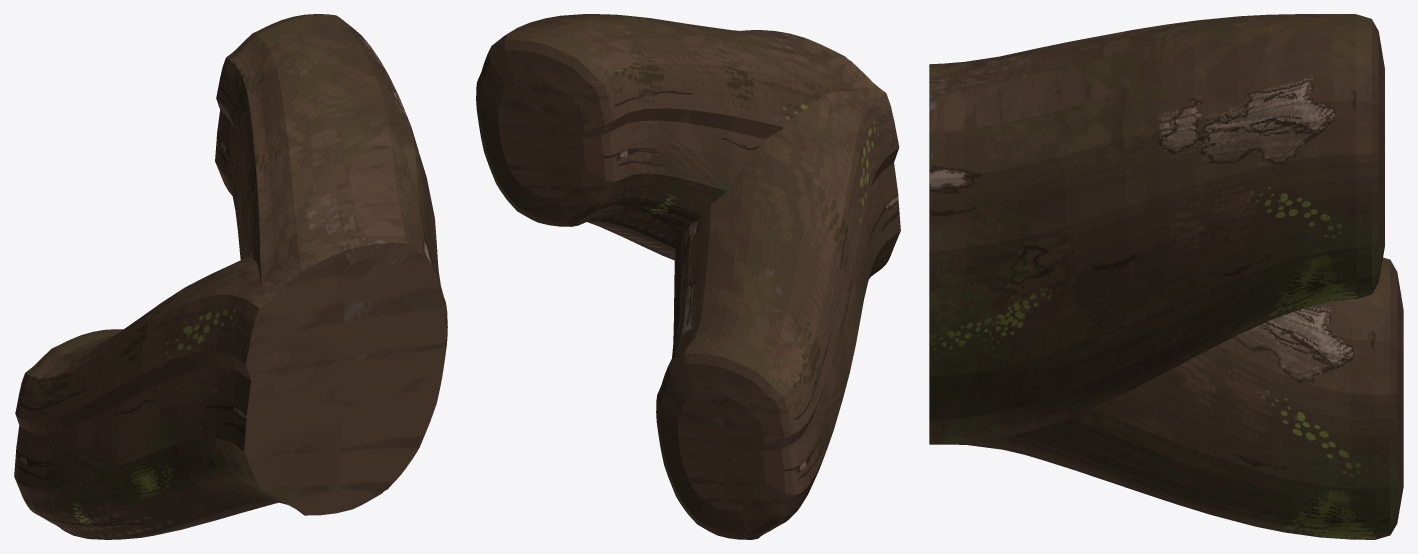
File: G2Splitter.fbx
The picture shows the model from 3 angles, left to right: view 1: azimuth 30°, elevation 25°; view 2: azimuth 150°, elevation 25°; view 3: azimuth 270°, elevation 25°; orthographic projection. The views are drawn at different scales.
Parts seen in each view (by area): view 1: 1-1.004, 1-1.005; view 2: 1-1.005, 1-1.004; view 3: 1-1.004, 1-1.005.
Part boxes in pixels (x1,y1,x2,y2): 1-1.004: (215, 14, 447, 511); 1-1.005: (14, 256, 382, 539); 1-1.005: (656, 60, 900, 539); 1-1.004: (476, 14, 878, 260); 1-1.004: (929, 14, 1384, 444); 1-1.005: (929, 257, 1403, 539).
Size of the model in its own units: 183 by 238 by 163.
